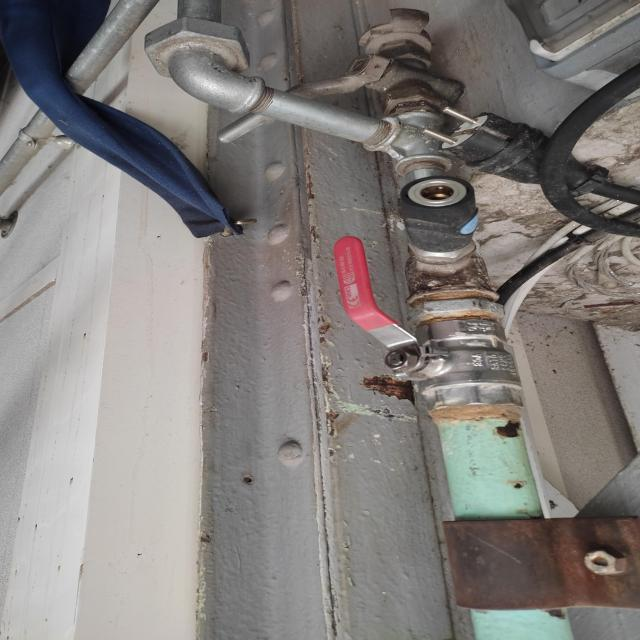opened_valve: (329, 234, 540, 414)
